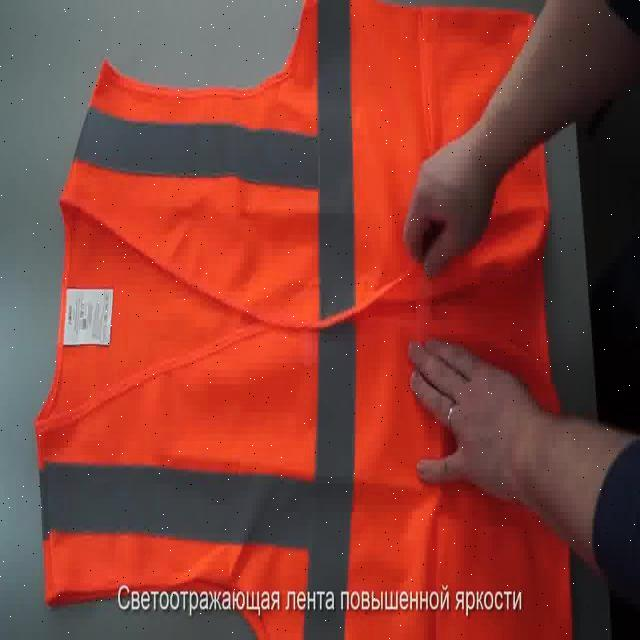Vest: (59, 29, 547, 633)
